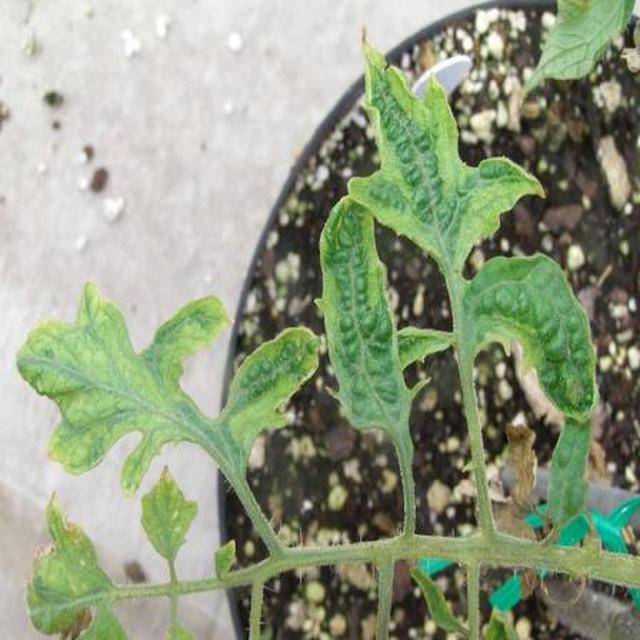Mosaic Virus Leaf: (140, 176, 640, 556)
